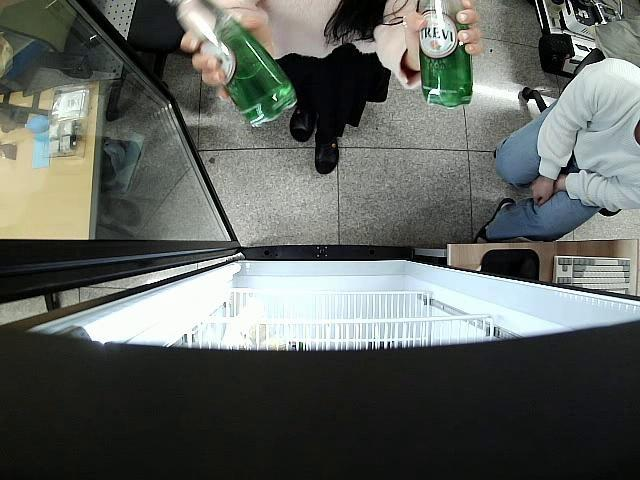18_trevi: (168, 0, 298, 127), (418, 0, 474, 109)
